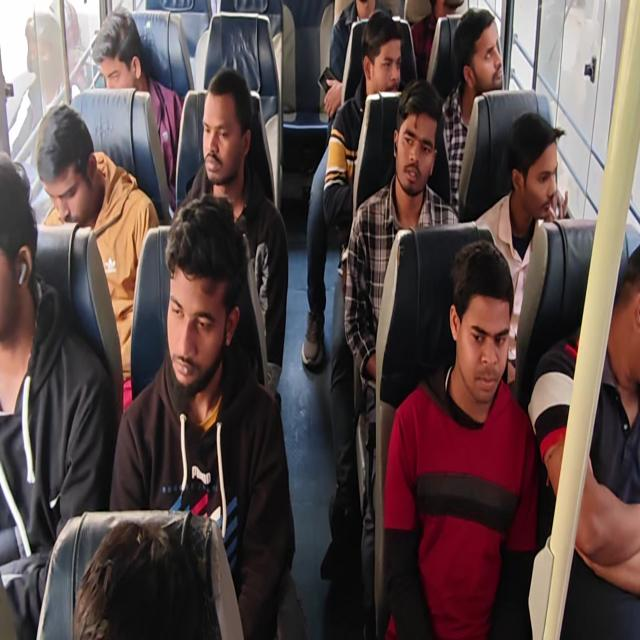person: (70, 511, 228, 640), (162, 178, 239, 399), (434, 234, 523, 405), (26, 101, 107, 226), (0, 134, 40, 367), (500, 103, 571, 217), (198, 61, 261, 182), (606, 229, 640, 439), (395, 76, 448, 196), (87, 2, 149, 98), (447, 6, 510, 97), (357, 11, 406, 102), (422, 0, 470, 25), (346, 0, 377, 31)
